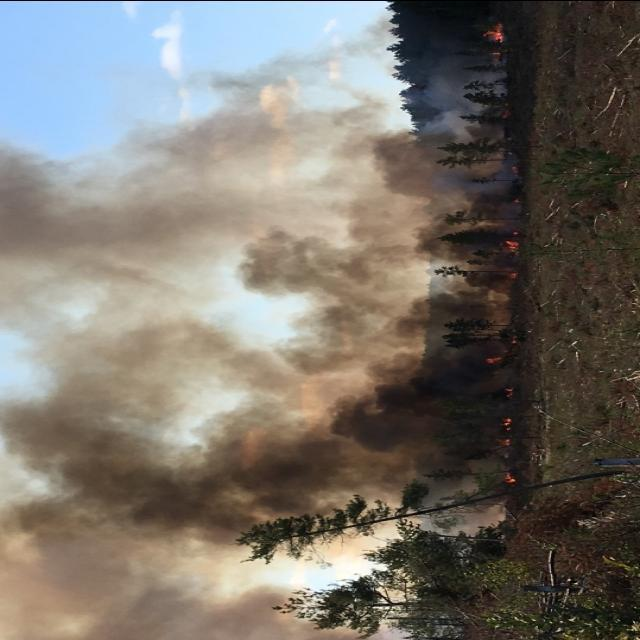Fire: (481, 24, 505, 44), (499, 236, 521, 254)
